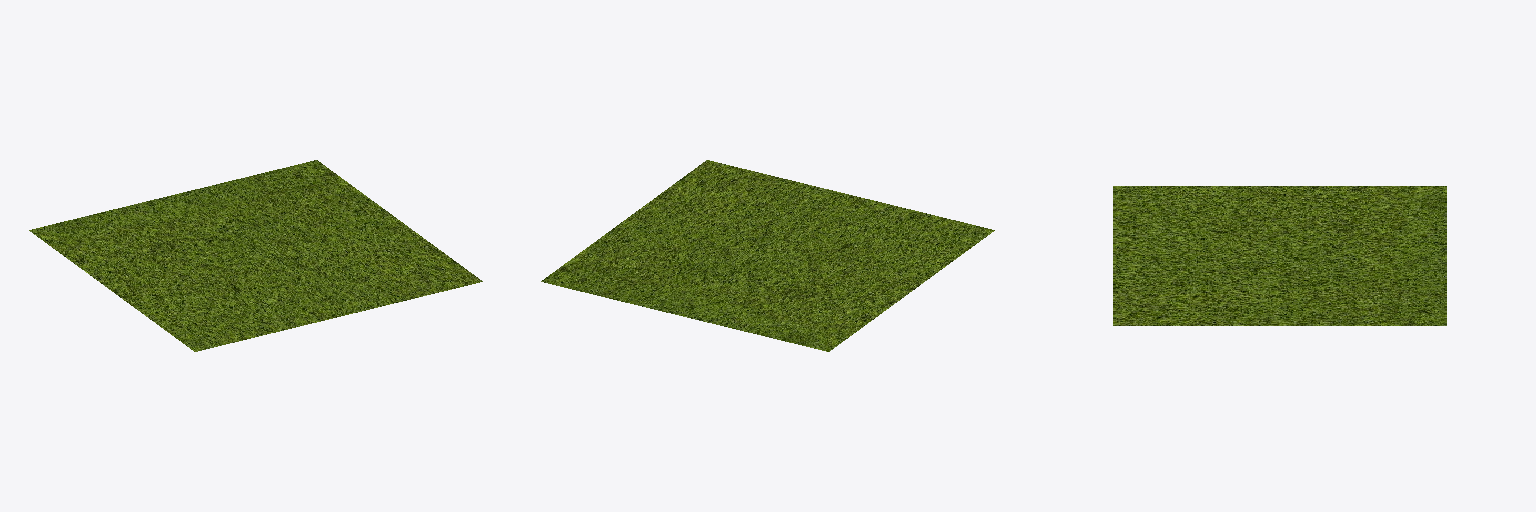
The picture shows the model from 3 angles: view 1: azimuth 30°, elevation 25°; view 2: azimuth 150°, elevation 25°; view 3: azimuth 270°, elevation 25°; orthographic projection.
Parts seen in each view (by area): view 1: Plane001; view 2: Plane001; view 3: Plane001.
Boxes of the visible parts, box(x1,y1,x2,y2) form: Plane001: box(29, 160, 482, 351); Plane001: box(541, 160, 994, 351); Plane001: box(1113, 186, 1446, 325).
Size of the model in its own units: 2 by 0 by 2.
1 materials, 1 textured.